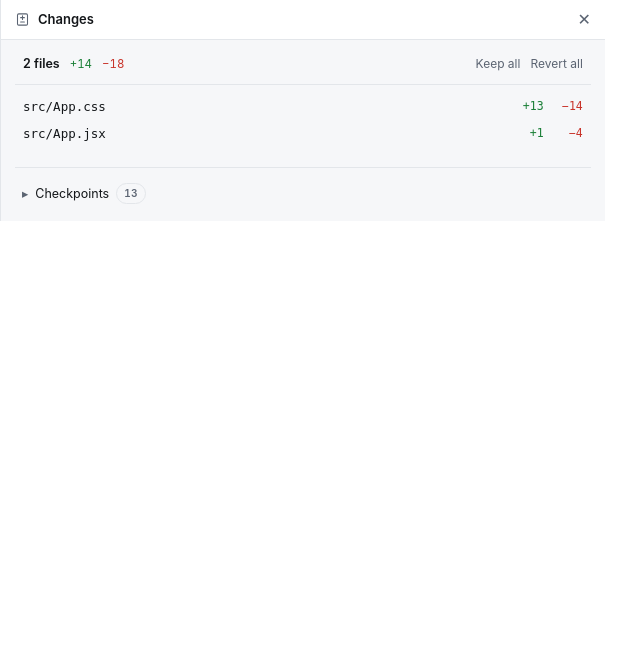
the Changes tab › starts a long one collapsed, with the count still visible
Expected: the text "Rewind" is not shown
Expected: the text "13" is shown, [116,183,146,204]
Click the button "▸ Checkpoints 13" at (72, 193), box [15,180,591,207]
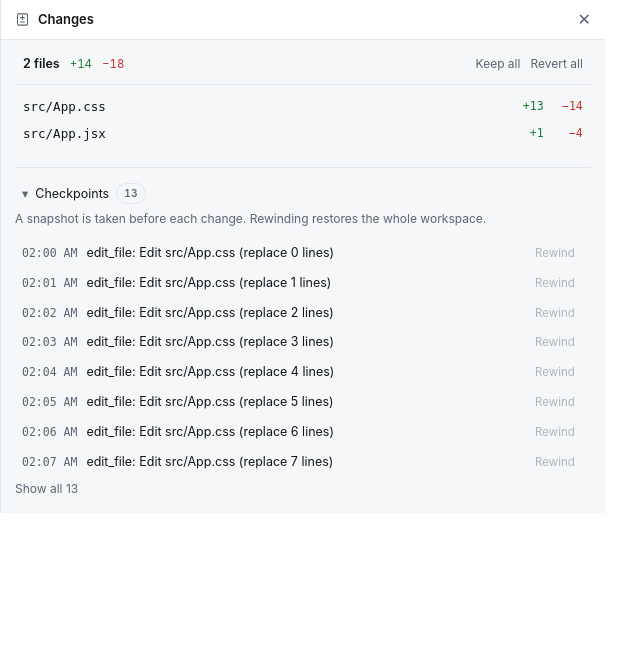
Now the number of buttons "Rewind" is 8
Click the button "Show all 13" at (47, 490), box [15,480,78,499]
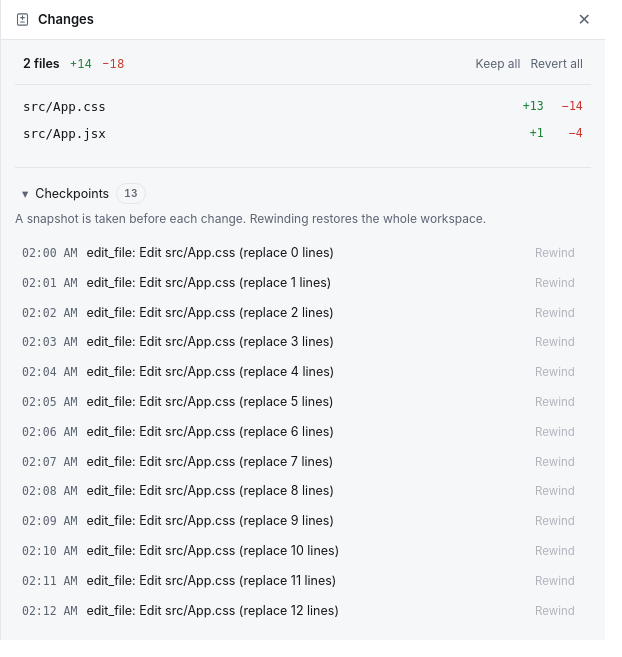
Now the number of buttons "Rewind" is 13
